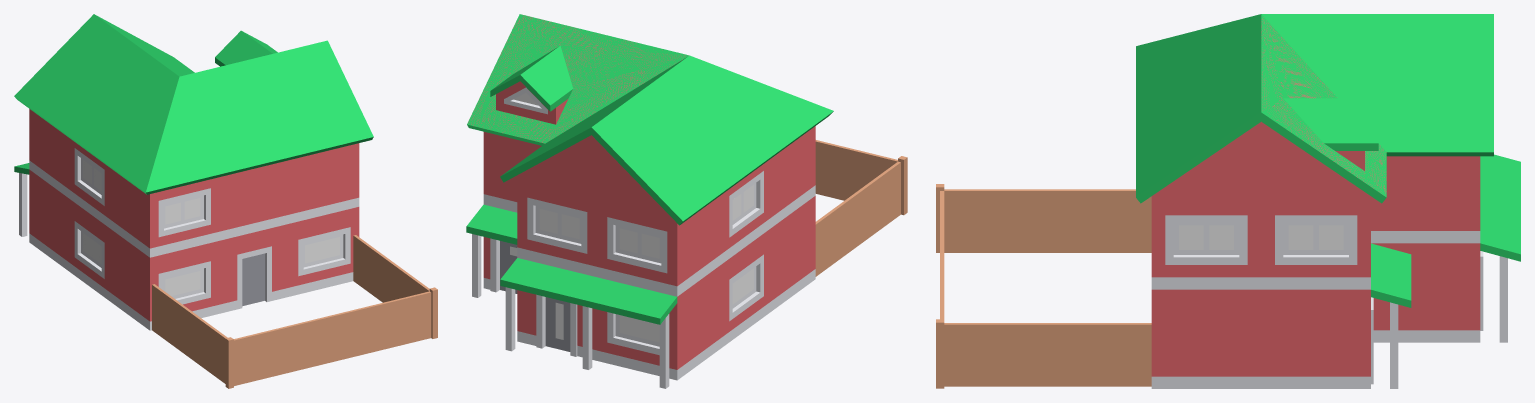
Rendered from Farm.fbx.
3 renders of one model, left to right at view 1: azimuth 30°, elevation 25°; view 2: azimuth 150°, elevation 25°; view 3: azimuth 270°, elevation 25°, orthographic. The views are drawn at different scales.
Visible parts, largest first — view 1: house_type02, fence_rectangle; view 2: house_type02, fence_rectangle; view 3: house_type02, fence_rectangle.
Boxes of the visible parts, x1,y1,x2,y2 form: house_type02: (14, 14, 373, 330); fence_rectangle: (152, 235, 437, 388); house_type02: (466, 14, 833, 388); fence_rectangle: (815, 140, 907, 276); house_type02: (1136, 14, 1520, 388); fence_rectangle: (936, 184, 1151, 388).
Size of the model in its own units: 131 by 114 by 214.
